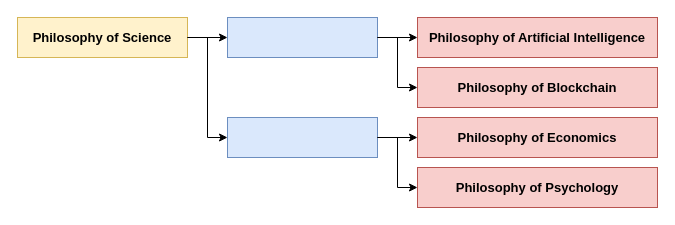
Some shapes in this 675 by 225 pixel diagram are drawn without their labels. The shapes that lost their labels are listed below. From the top down, each one's centre as x and y in pixels, then its label:
(302,37): Computer Science
(302,137): Social Science
